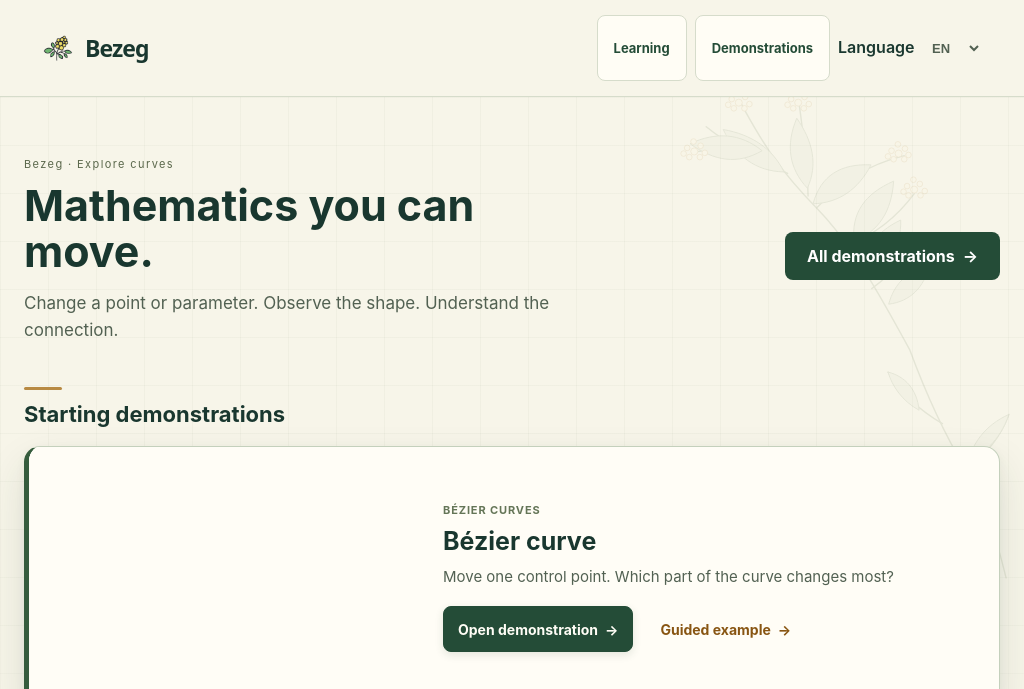
renders the app shell around its nested route and navigates through the header
expect the header with class "app-header" is shown: met, box x1=0 y1=0 x2=1023 y2=97
expect the heading "Mathematics you can move." is shown: met, box x1=24 y1=183 x2=517 y2=274
Click the link "All demonstrations →".
click(892, 256)  # box x1=785 y1=232 x2=1000 y2=280
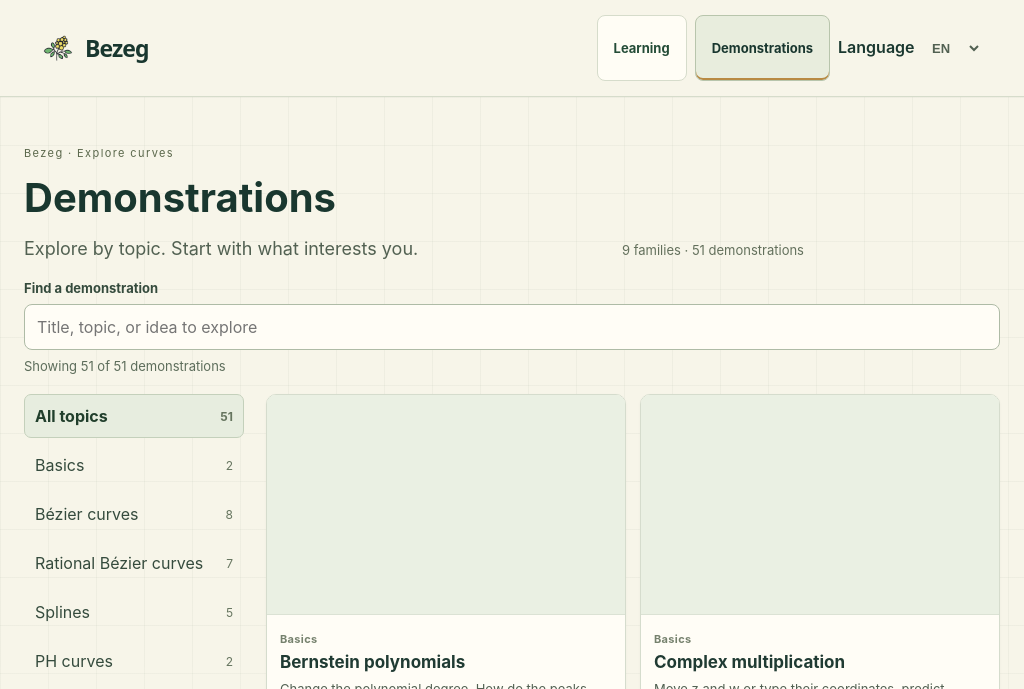
expect the heading "Demonstrations" is shown: met, box x1=24 y1=173 x2=336 y2=222
expect the heading "Starting demonstrations" is gone: met
Click the link with aria-label "Bezeg · home".
click(95, 48)  # box x1=41 y1=26 x2=149 y2=70
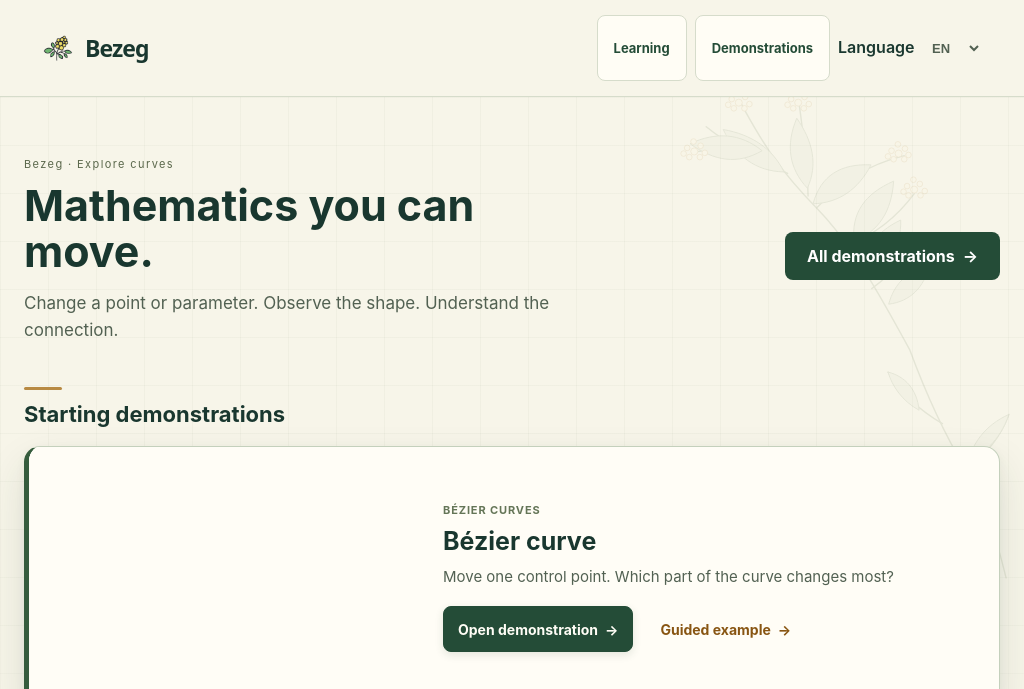
expect the heading "Mathematics you can move." is shown: met, box x1=24 y1=183 x2=517 y2=274
Click the link "Demonstrations".
click(762, 48)  # box x1=695 y1=15 x2=830 y2=81
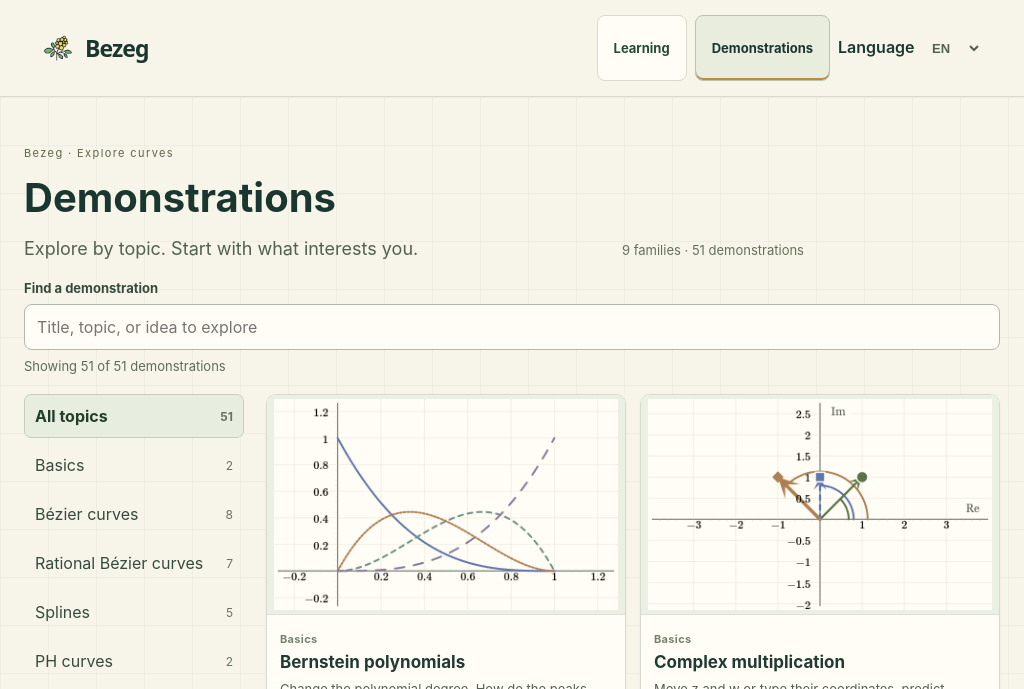
expect the heading "Demonstrations" is shown: met, box x1=24 y1=173 x2=336 y2=222
